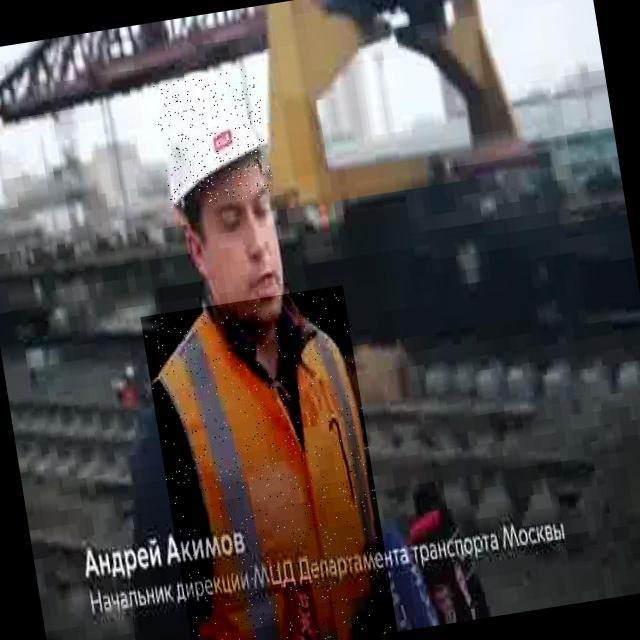Helmet: (151, 68, 276, 211)
Safety Vest: (140, 285, 397, 640)
